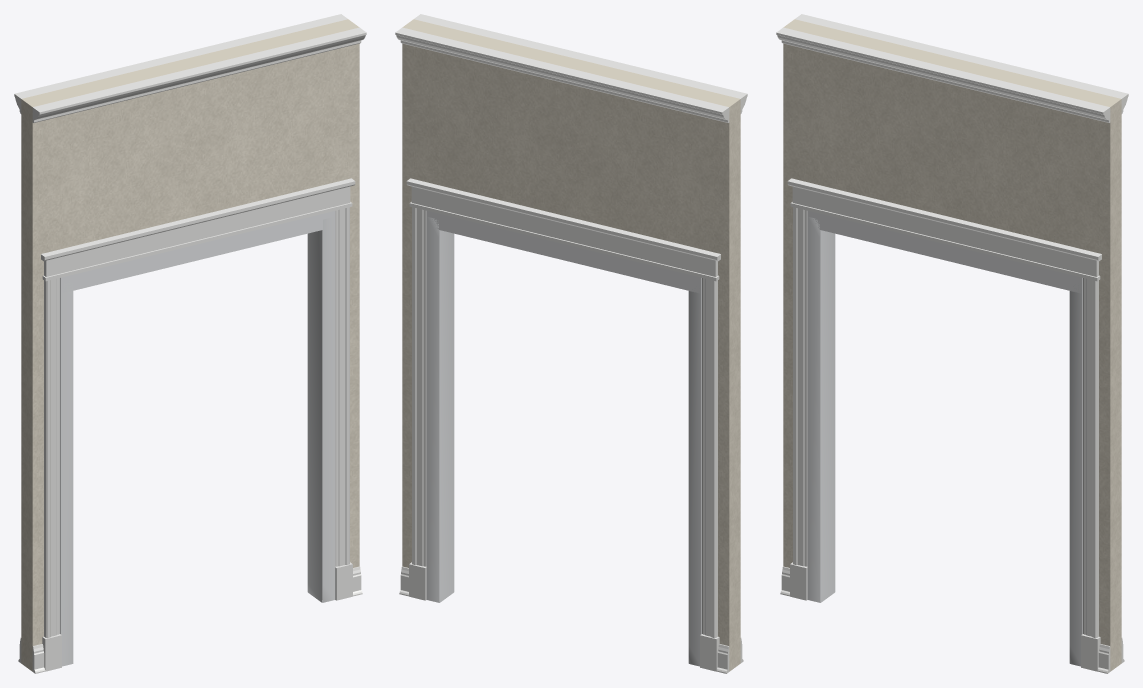
Rendered from interior_wall_wide.glb.
The picture shows the model from 3 angles, left to right: view 1: azimuth 30°, elevation 25°; view 2: azimuth 150°, elevation 25°; view 3: azimuth 330°, elevation 25°; orthographic projection.
Visible parts, largest first — view 1: interior_wall_wide_plaster, molduras, interior_wall_wide_frame; view 2: interior_wall_wide_plaster, molduras, interior_wall_wide_frame; view 3: interior_wall_wide_plaster, molduras, interior_wall_wide_frame.
Boxes of the visible parts, x1,y1,x2,y2 form: interior_wall_wide_plaster: [21, 19, 359, 671]; molduras: [14, 14, 366, 673]; interior_wall_wide_frame: [60, 211, 335, 666]; interior_wall_wide_plaster: [402, 19, 740, 671]; molduras: [395, 14, 747, 673]; interior_wall_wide_frame: [426, 211, 701, 666]; interior_wall_wide_plaster: [783, 19, 1121, 671]; molduras: [776, 14, 1128, 673]; interior_wall_wide_frame: [807, 211, 1082, 666].
Size of the model in its own units: 2 by 3.3 by 0.27.
Materials: 3 (1 with a texture image).
